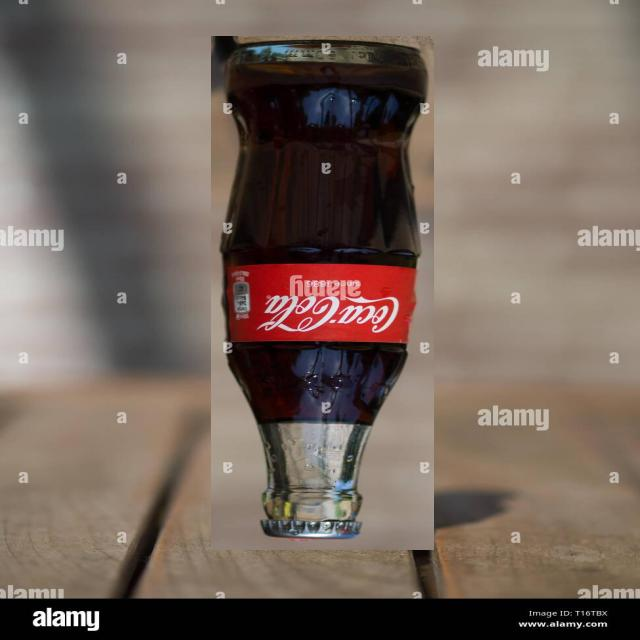coca-cola: (211, 36, 434, 550)
